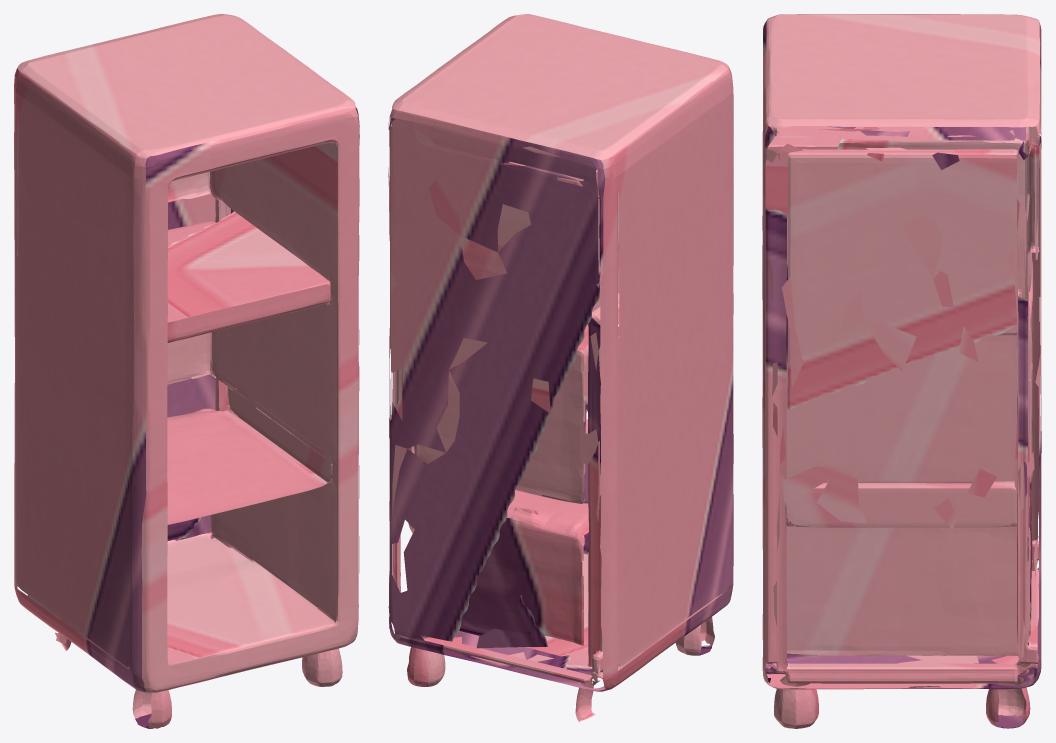
The picture shows the model from 3 angles, left to right: view 1: azimuth 30°, elevation 25°; view 2: azimuth 150°, elevation 25°; view 3: azimuth 270°, elevation 25°; orthographic projection. The views are drawn at different scales.
Parts seen in each view (by area): view 1: world; view 2: world; view 3: world.
Boxes of the visible parts, x1,y1,x2,y2 form: world: (14,14,359,728); world: (388,14,733,722); world: (762,14,1041,728).
Bounding box in the file's own units: 41.09 × 100 × 41.37.
